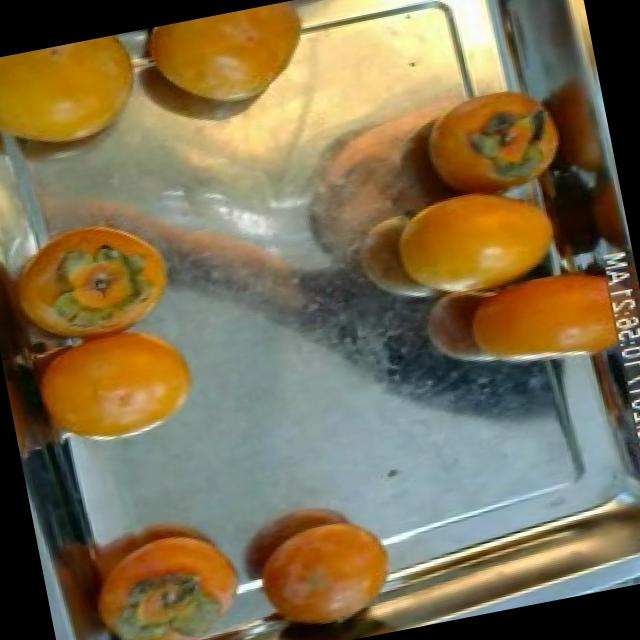Fruit: (7, 296, 215, 466), (0, 194, 197, 364), (215, 474, 415, 640), (366, 162, 580, 315), (125, 0, 338, 136), (19, 421, 119, 561)
